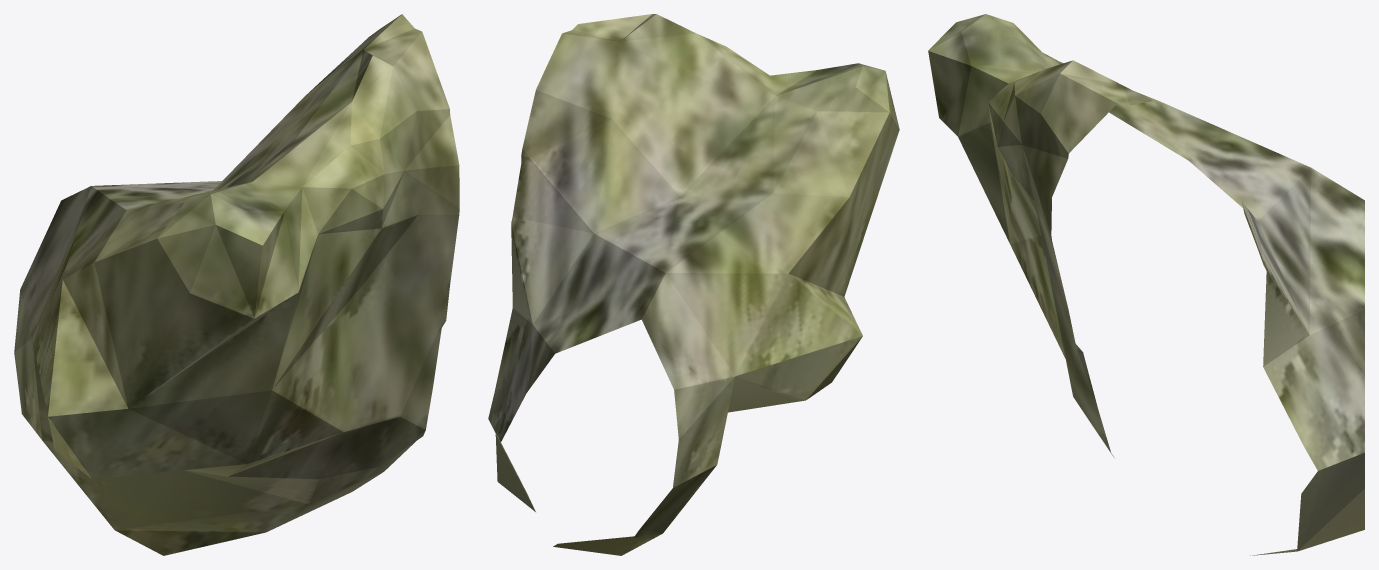
The picture shows the model from 3 angles, left to right: view 1: azimuth 30°, elevation 25°; view 2: azimuth 150°, elevation 25°; view 3: azimuth 270°, elevation 25°; orthographic projection. The views are drawn at different scales.
Bounding box in the file's own units: 1.04 × 1.54 × 1.21.
Materials: 1 (1 with a texture image).
